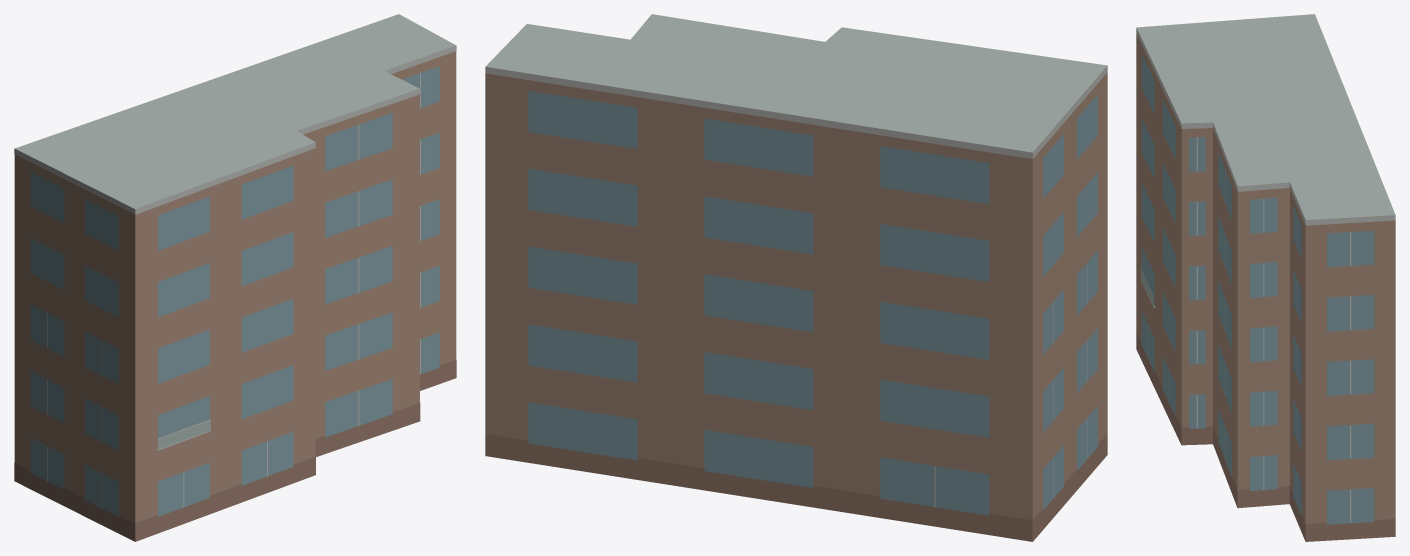
Rendered from survey-upis-32752595.glb.
The picture shows the model from 3 angles, left to right: view 1: azimuth 30°, elevation 25°; view 2: azimuth 150°, elevation 25°; view 3: azimuth 270°, elevation 25°; orthographic projection. The views are drawn at different scales.
Visible parts, largest first — view 1: survey-upis-32752595.tmp; view 2: survey-upis-32752595.tmp; view 3: survey-upis-32752595.tmp.
Boxes of the visible parts, x1,y1,x2,y2 form: survey-upis-32752595.tmp: [14, 14, 456, 541]; survey-upis-32752595.tmp: [485, 14, 1107, 541]; survey-upis-32752595.tmp: [1136, 14, 1395, 541].
Bounding box in the file's own units: 19.81 × 14.4 × 10.53.
